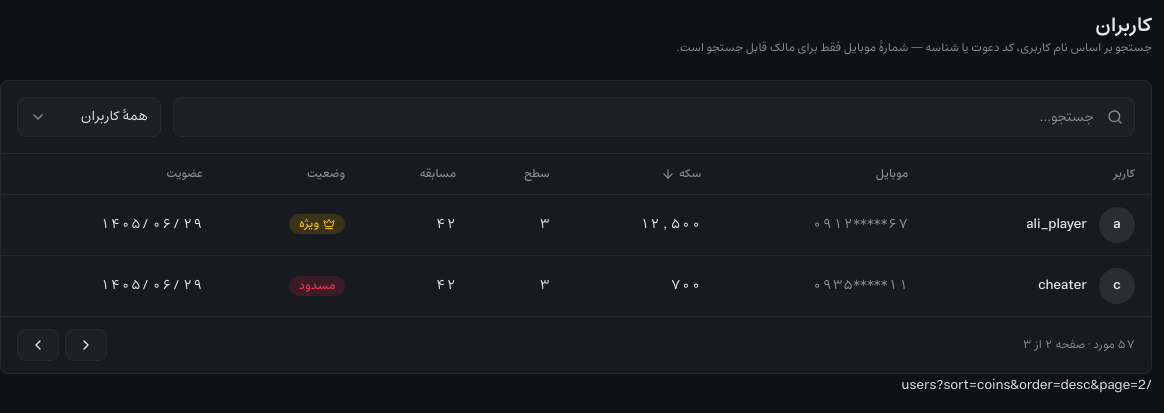
Scenario: Users page › clicking a sortable header flips the order in the URL and resets to page 1
The width and height of the screenshot is (1164, 413).
Expected: the text "ali_player" is shown, [1026,215,1087,235]
Click the button "سکه".
click(681, 174)  # box [661,166,701,182]
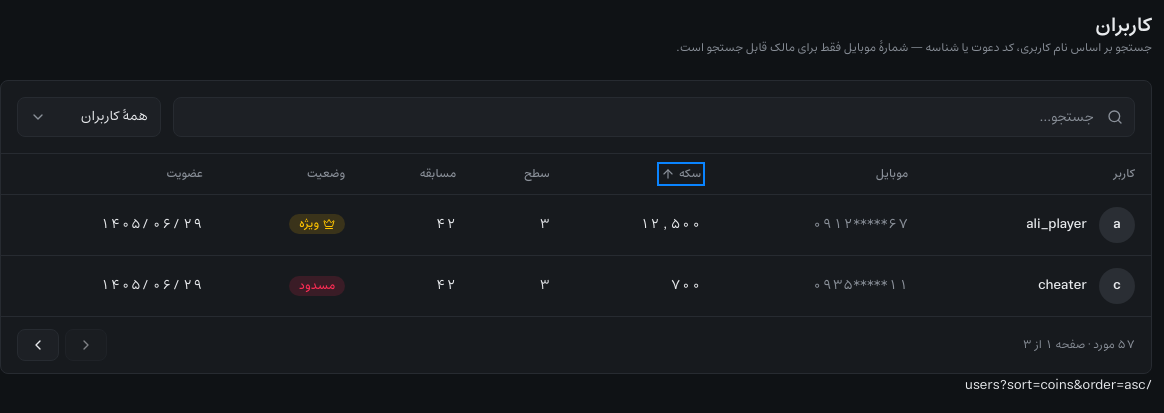
Expected: the text with test id "where" reads "/users?sort=coins&order=asc", [965,375,1152,396]
